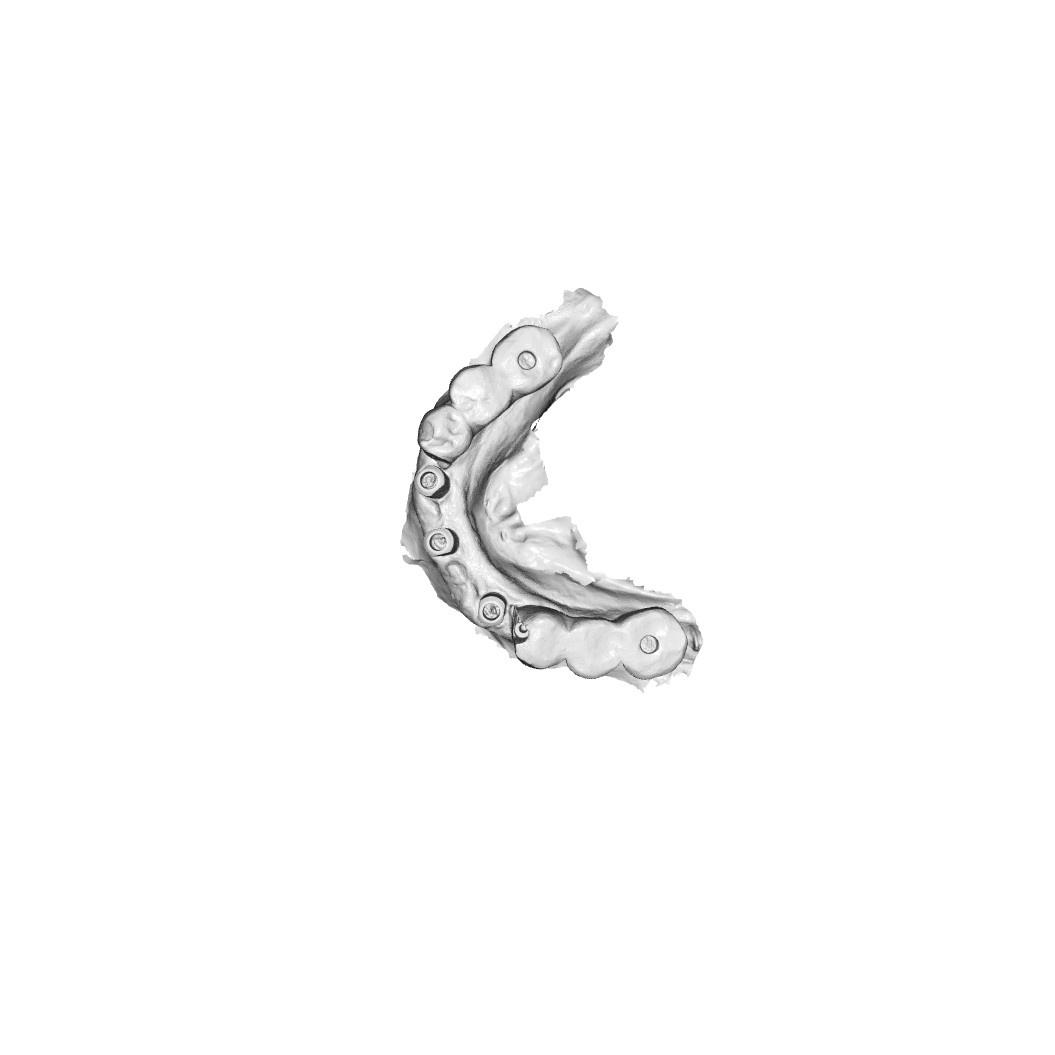implant: (473, 588, 511, 630), (416, 461, 452, 498), (427, 527, 456, 559)
molar: (487, 322, 566, 397), (447, 359, 519, 428), (621, 605, 687, 680), (563, 616, 627, 681)
premolar: (511, 604, 566, 673), (416, 405, 474, 463)
